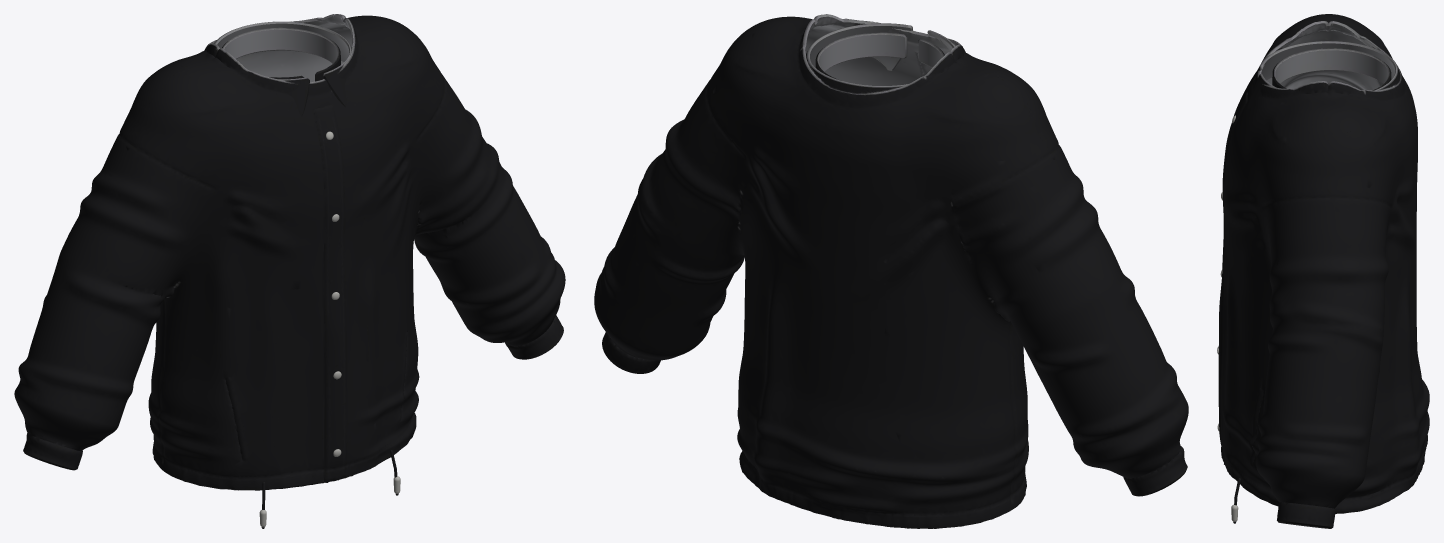
The model's file is 09_chaqueta_coach_pbr.glb.
The picture shows the model from 3 angles, left to right: view 1: azimuth 30°, elevation 25°; view 2: azimuth 150°, elevation 25°; view 3: azimuth 270°, elevation 25°; orthographic projection. The views are drawn at different scales.
Visible parts, largest first — view 1: Camiseta PBR; view 2: Camiseta PBR; view 3: Camiseta PBR.
Boxes of the visible parts, x1,y1,x2,y2 form: Camiseta PBR: [14, 14, 565, 490]; Camiseta PBR: [594, 14, 1188, 528]; Camiseta PBR: [1218, 14, 1429, 528].
Bounding box in the file's own units: 1 × 0.8008 × 0.3506.
3 materials, 1 textured.
